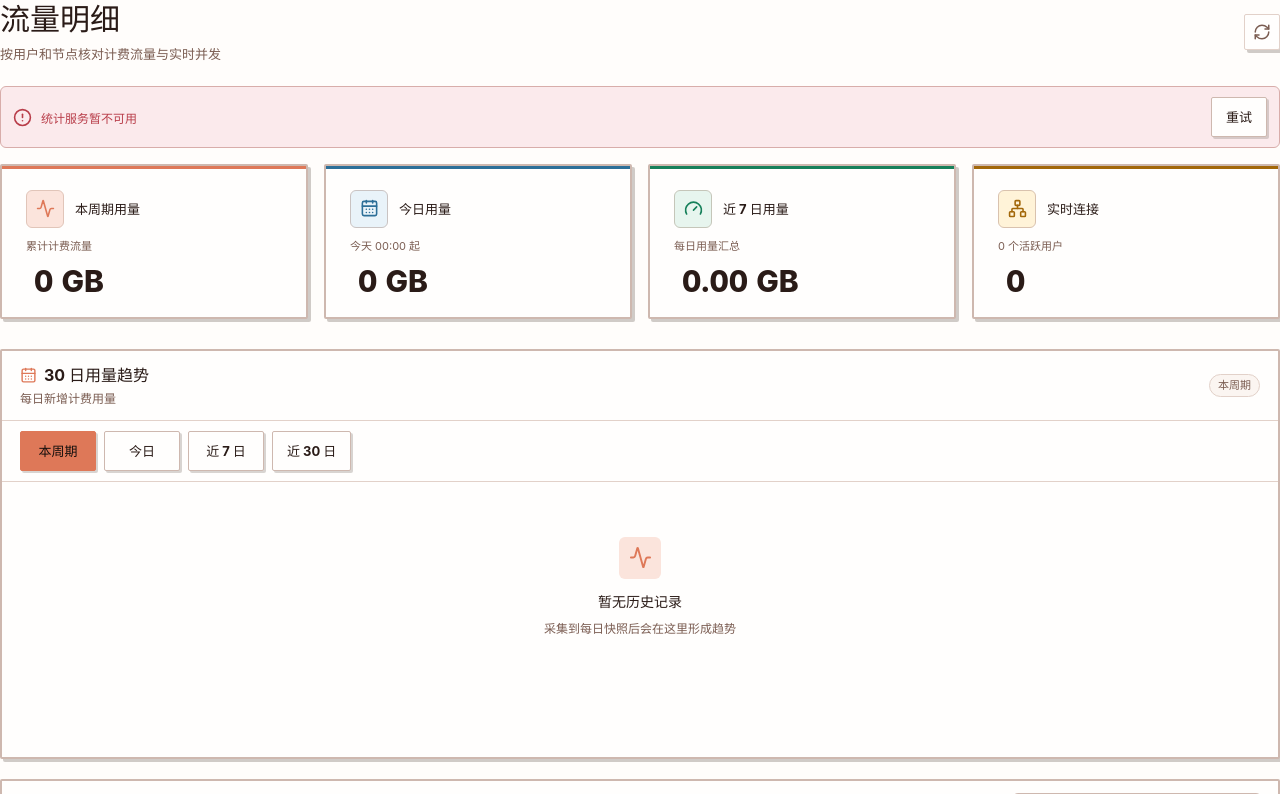
Test: traffic workbench › renders retryable errors and empty admin states
This screenshot has width=1280, height=794.
Expected: the message shows "统计服务暂不可用", top-left (41, 110), bottom-right (137, 126)
Click the button "重试".
click(1239, 117)  # box top-left (1211, 97), bottom-right (1267, 137)
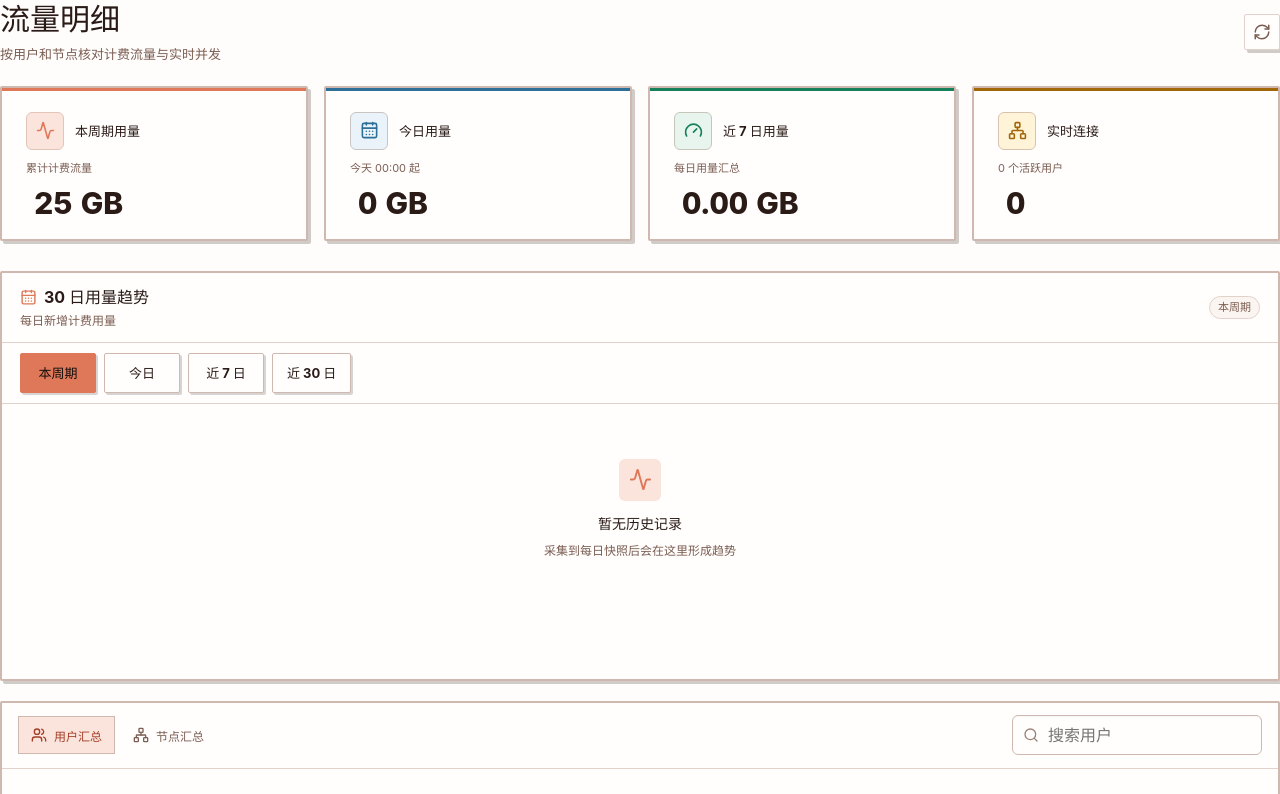
Click the tab "节点汇总".
click(168, 735)  # box top-left (120, 716), bottom-right (217, 754)
(page scrolled)
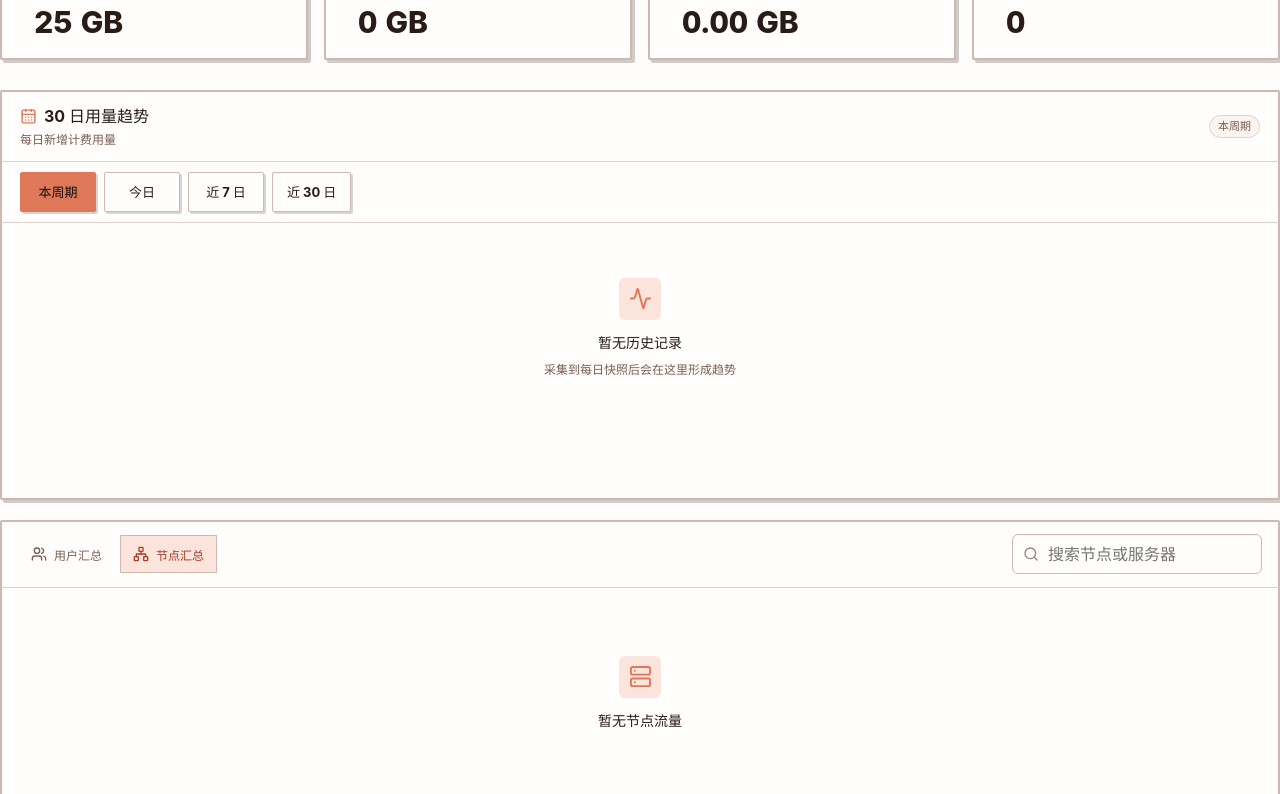
Result: the text "暂无节点流量" is shown at top-left (598, 710), bottom-right (682, 730)
